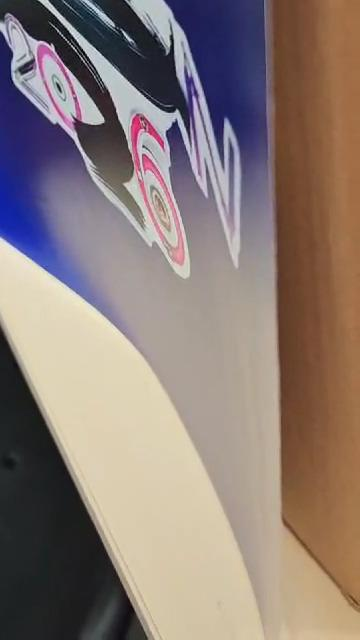B_R1: (0, 0, 260, 322)
